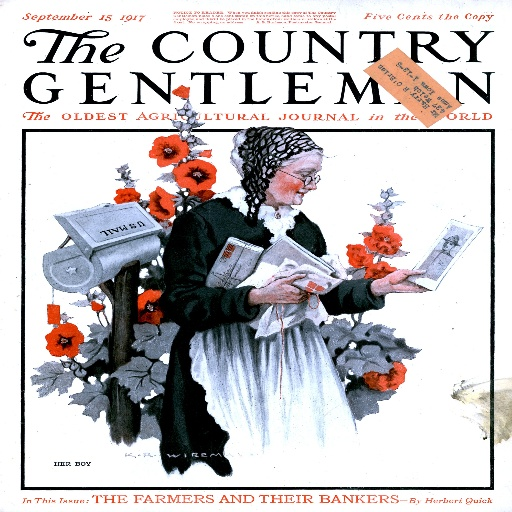hand: (374, 261, 438, 301), (258, 273, 307, 305)
